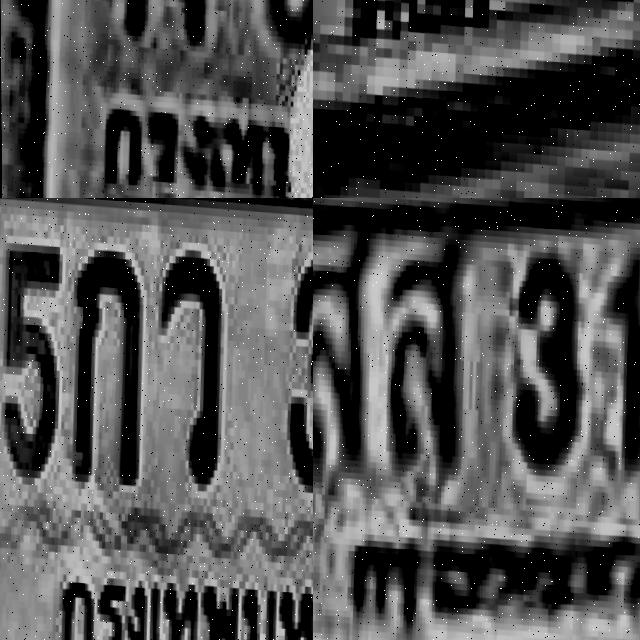license-plate: (313, 198, 640, 640), (0, 198, 313, 640), (0, 0, 313, 198), (313, 0, 640, 186)
